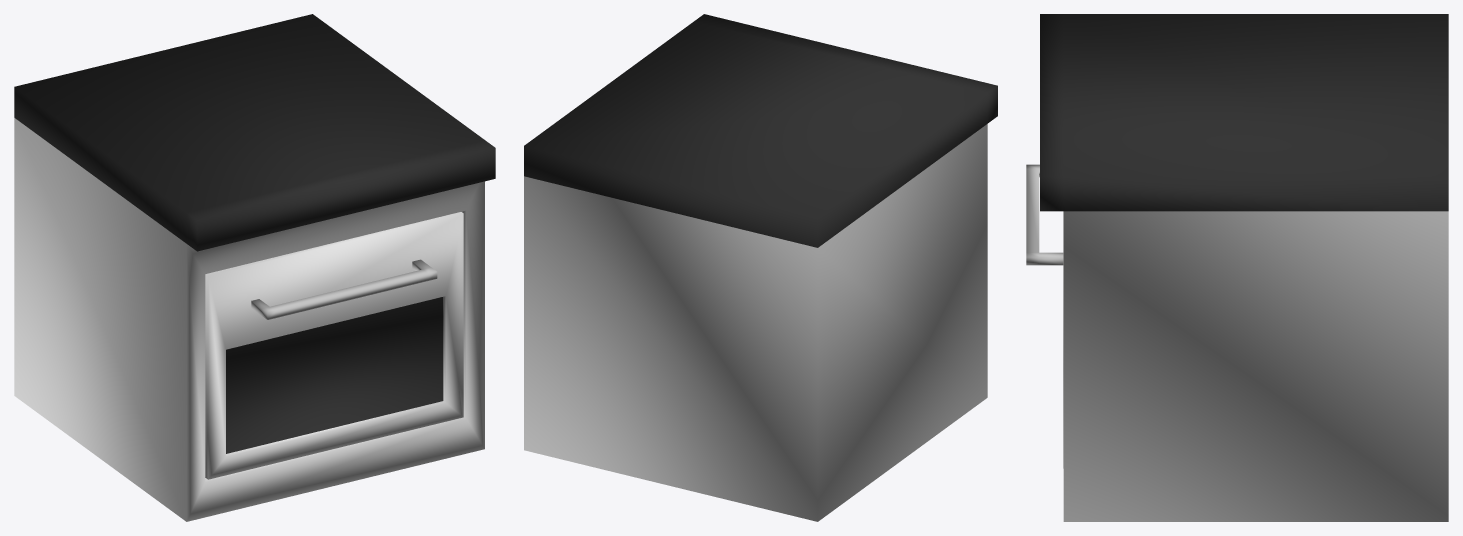
The model's file is GAMEJAMHERO - Prop(Kitchen Oven).fbx.
The picture shows the model from 3 angles, left to right: view 1: azimuth 30°, elevation 25°; view 2: azimuth 150°, elevation 25°; view 3: azimuth 270°, elevation 25°; orthographic projection. The views are drawn at different scales.
Visible parts, largest first — view 1: Cube.016; view 2: Cube.016; view 3: Cube.016.
Part boxes in pixels (bbox=[...]): Cube.016: bbox=[14, 14, 495, 521]; Cube.016: bbox=[524, 14, 997, 521]; Cube.016: bbox=[1026, 14, 1448, 521].
Bounding box in the file's own units: 146 × 144 × 160.
Materials: 1 (1 with a texture image).
